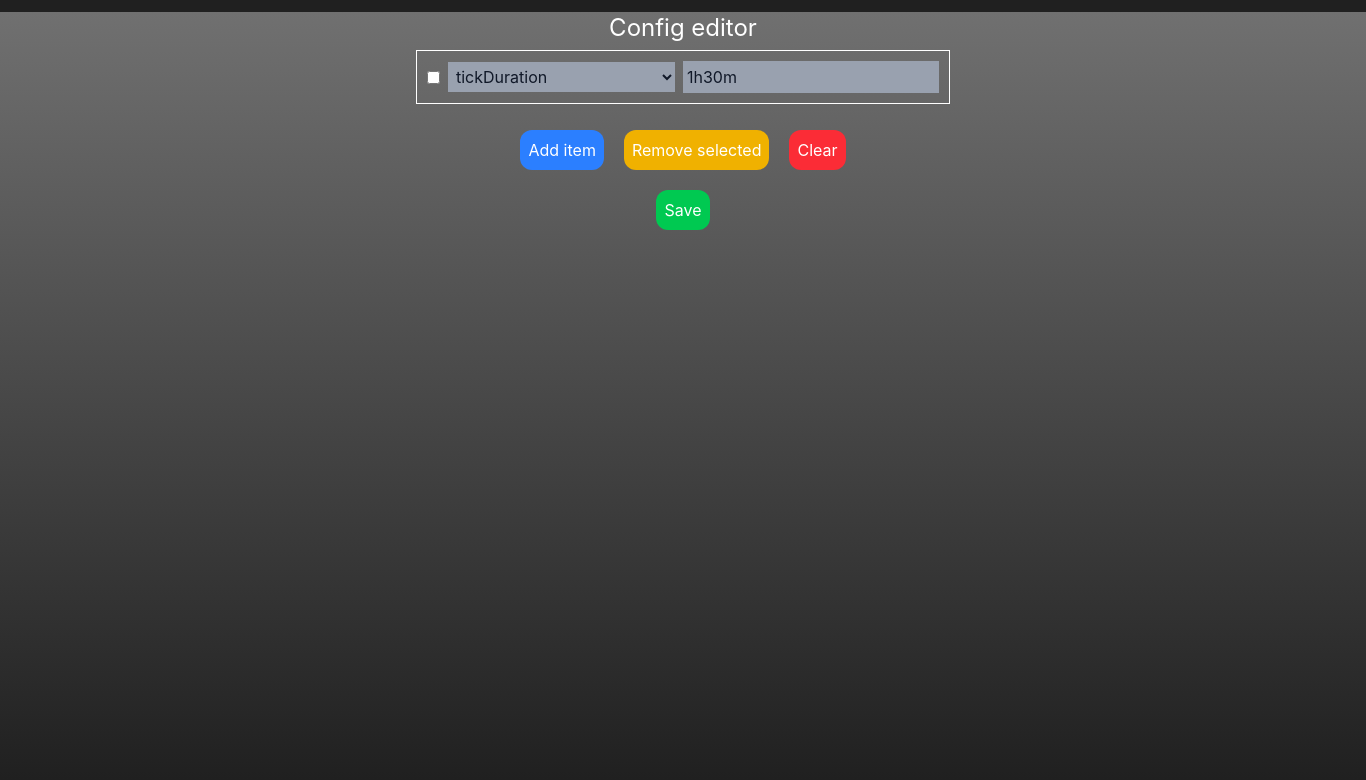
it: ConfigEditor › renders select-type SetItem when config type is doLambdaDoseCorrection
Click the button "Add item" at (562, 150), box [520,130,604,170]
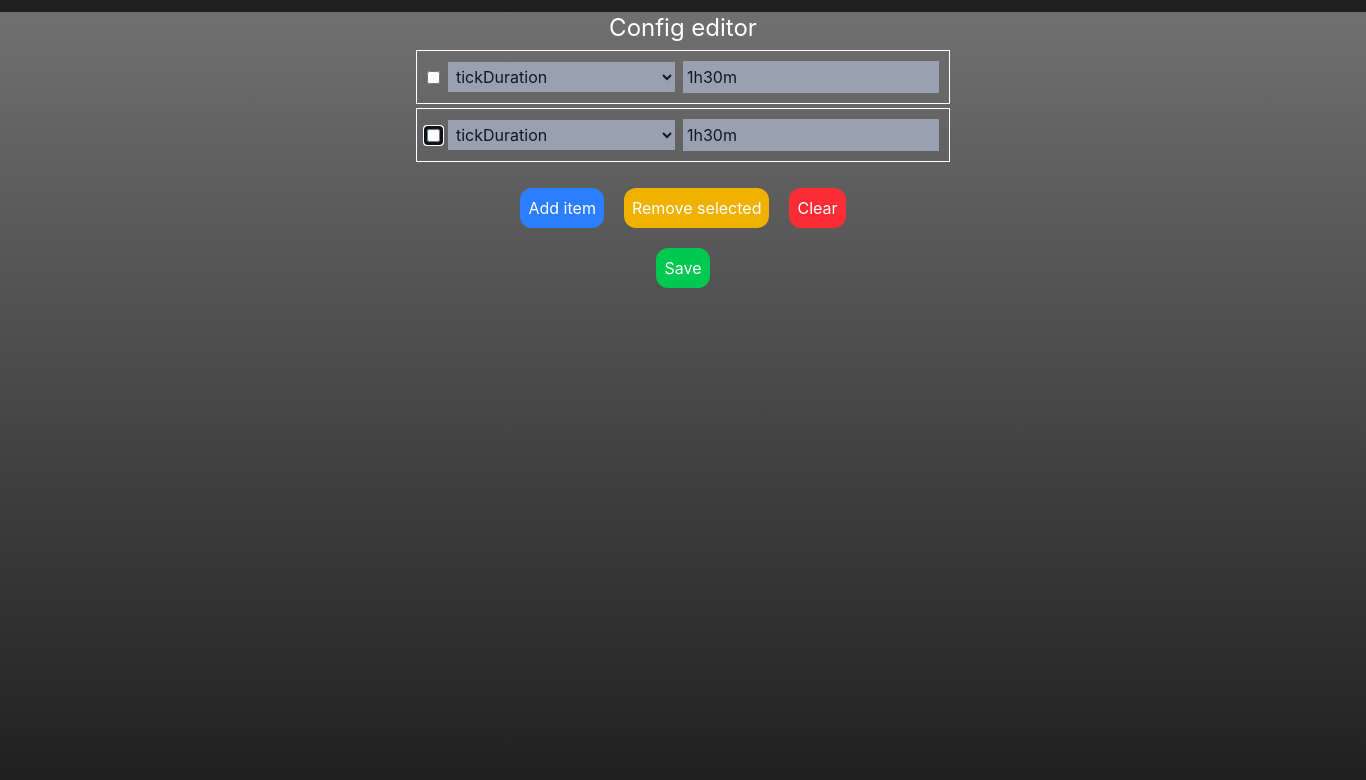
Select "doLambdaDoseCorrection" in the 1st dropdown named "config.0.type" at (562, 77), box [448,62,675,92]
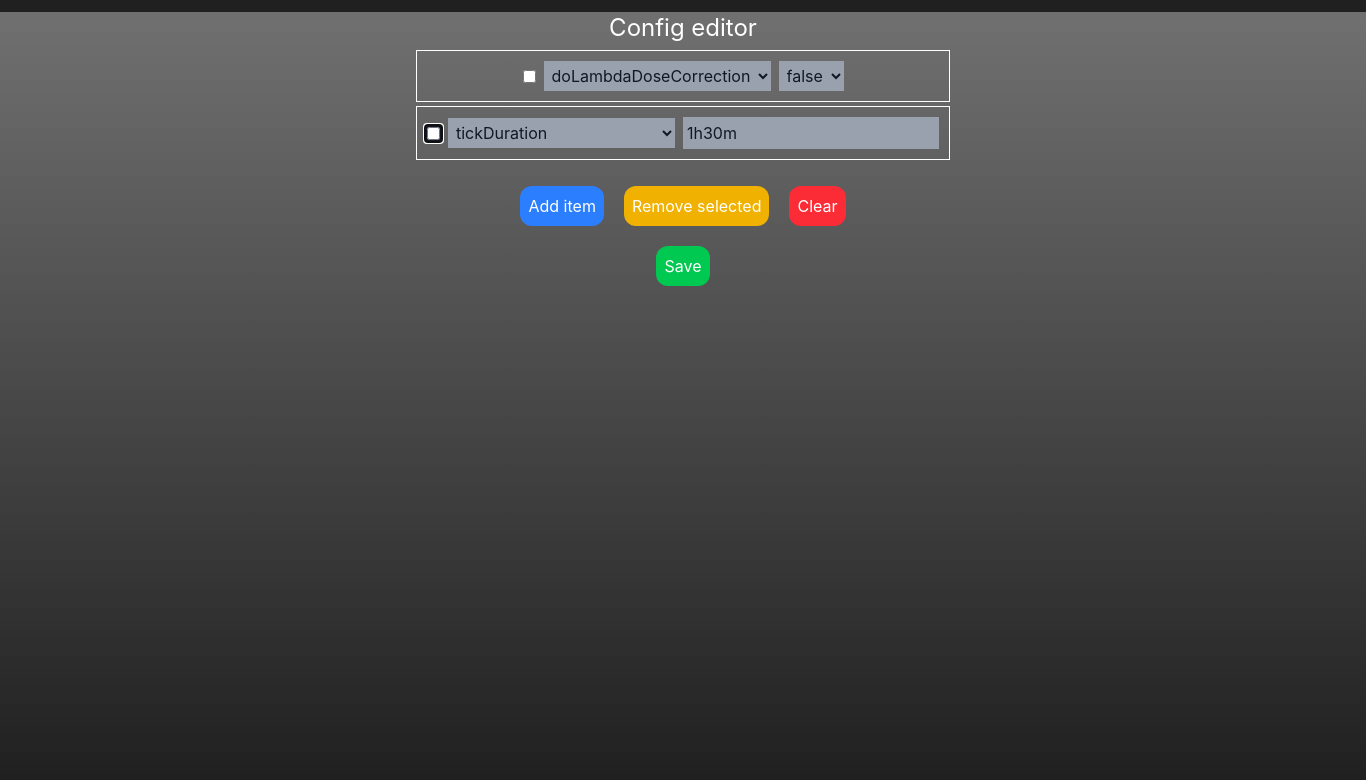
Expected: the 2nd dropdown named "config.0.value" is shown, [778,61,844,91]
